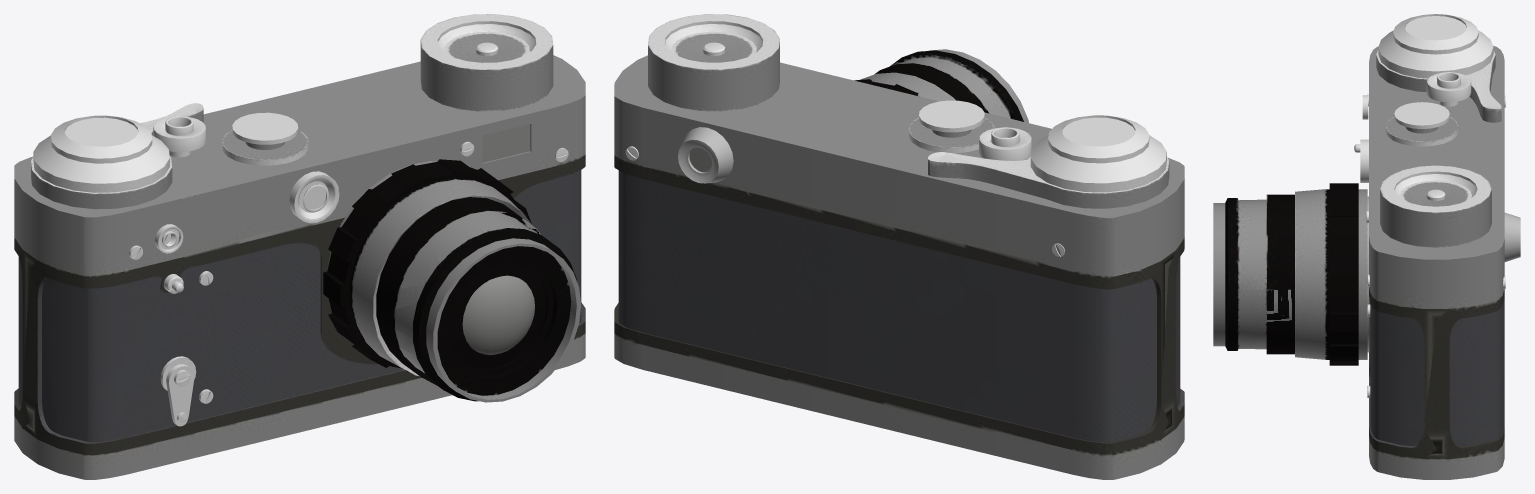
Rendered from camera.glb.
3 views of the same model, side by side, from view 1: azimuth 30°, elevation 25°; view 2: azimuth 150°, elevation 25°; view 3: azimuth 270°, elevation 25° (orthographic). The views are drawn at different scales.
Parts seen in each view (by area): view 1: defaultMaterial; view 2: defaultMaterial; view 3: defaultMaterial.
Boxes of the visible parts, box(x1,y1,x2,y2) form: defaultMaterial: box(14, 14, 585, 479); defaultMaterial: box(614, 14, 1184, 479); defaultMaterial: box(1213, 14, 1520, 479).
Size of the model in its own units: 14.69 by 8.08 by 8.63.
1 material, 1 textured.
